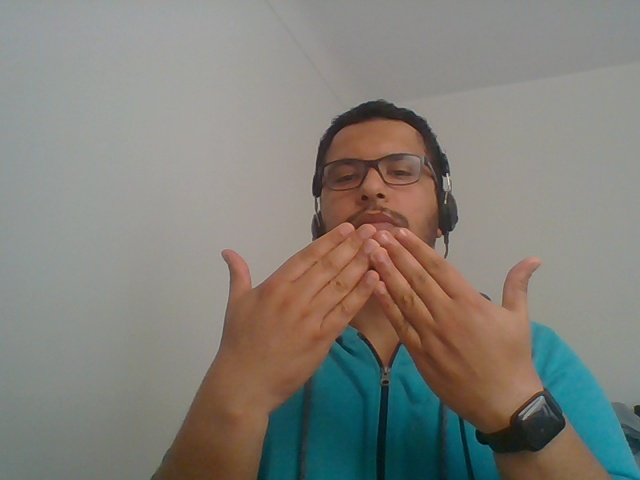thanks: (138, 215, 608, 480)
